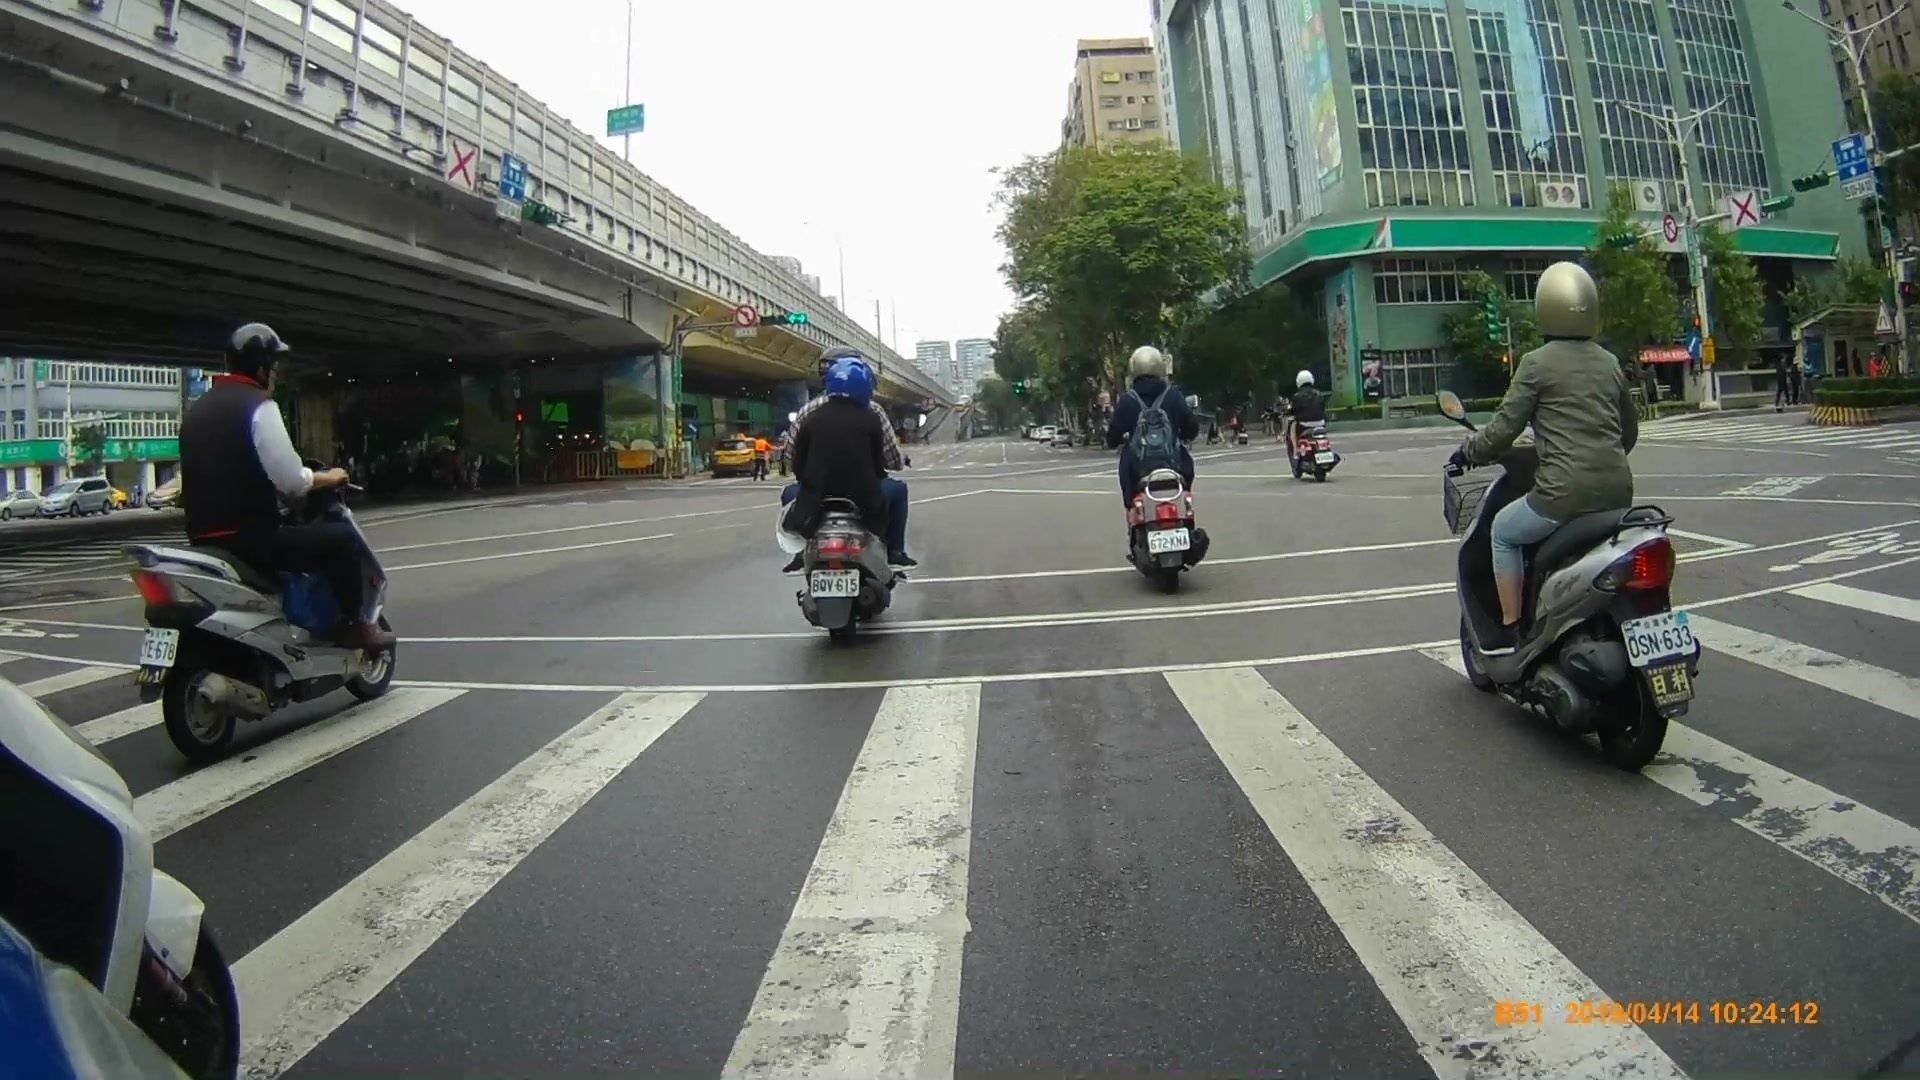License_plate: (1615, 608, 1699, 660), (806, 569, 864, 599), (138, 625, 178, 669), (1144, 528, 1194, 556)
